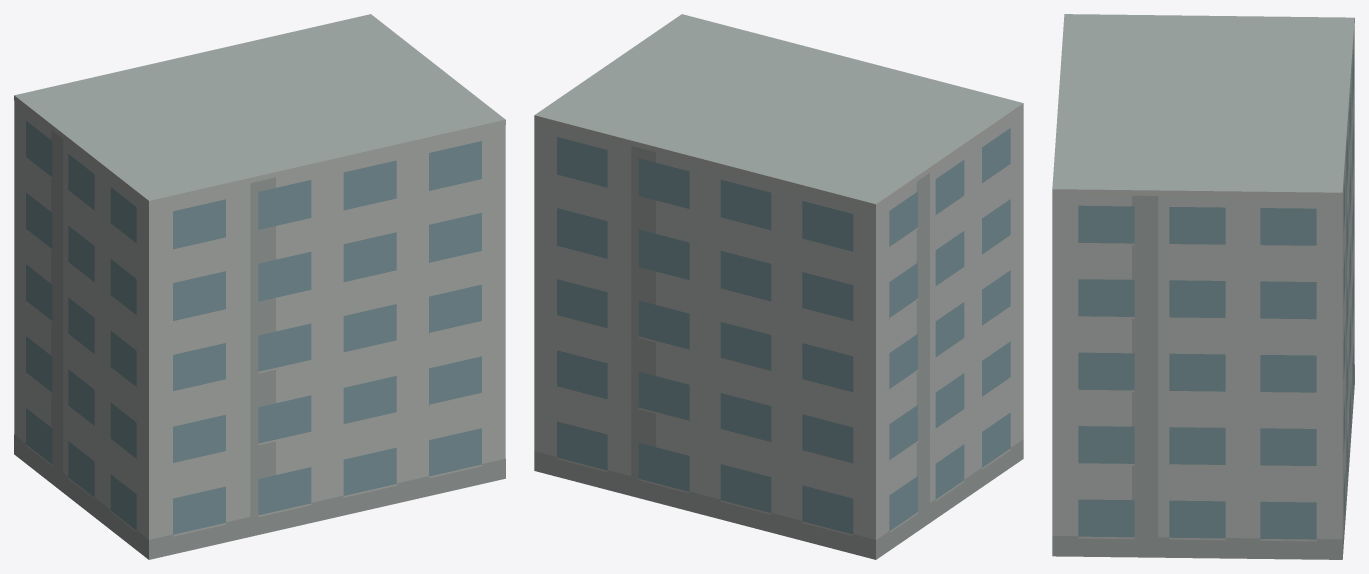
The model's file is survey-upis-32874694.glb.
3 views of the same model, side by side, from view 1: azimuth 30°, elevation 25°; view 2: azimuth 150°, elevation 25°; view 3: azimuth 270°, elevation 25° (orthographic). The views are drawn at different scales.
Parts seen in each view (by area): view 1: survey-upis-32874694.tmp; view 2: survey-upis-32874694.tmp; view 3: survey-upis-32874694.tmp.
Part boxes in pixels (bbox=[...]): survey-upis-32874694.tmp: bbox=[14, 14, 505, 559]; survey-upis-32874694.tmp: bbox=[534, 14, 1023, 559]; survey-upis-32874694.tmp: bbox=[1052, 14, 1354, 559].
Bounding box in the file's own units: 16.92 × 16.2 × 12.1.
